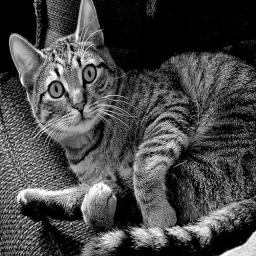catnose: (74, 100, 86, 114)
